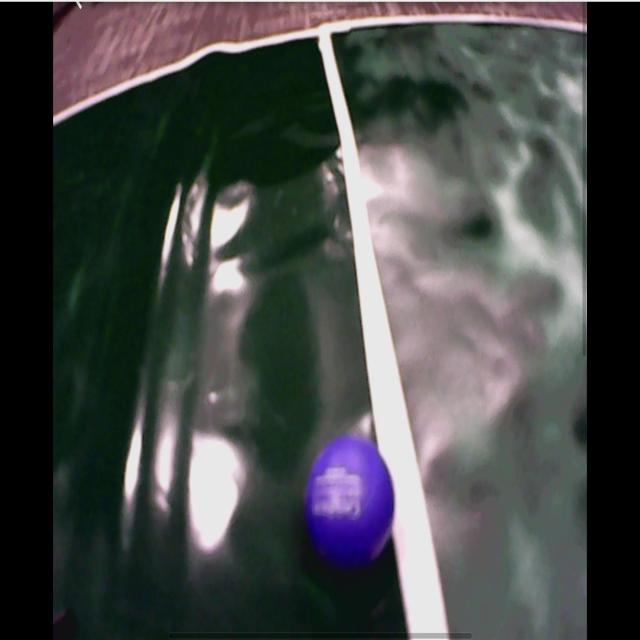ball: (305, 436, 397, 567)
